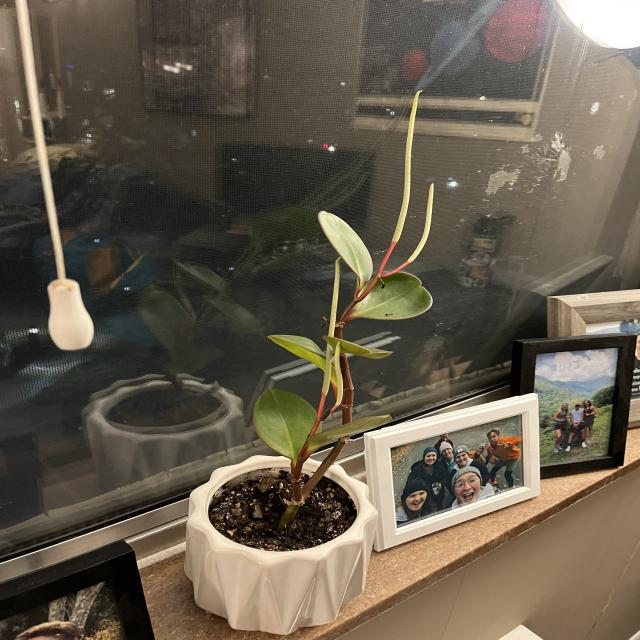Rubber_plant: (249, 75, 440, 504)
